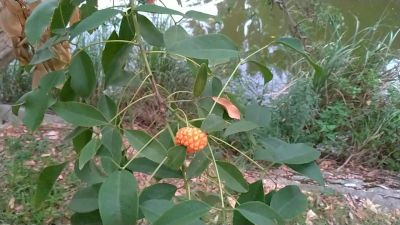eggs: (174, 123, 208, 152)
